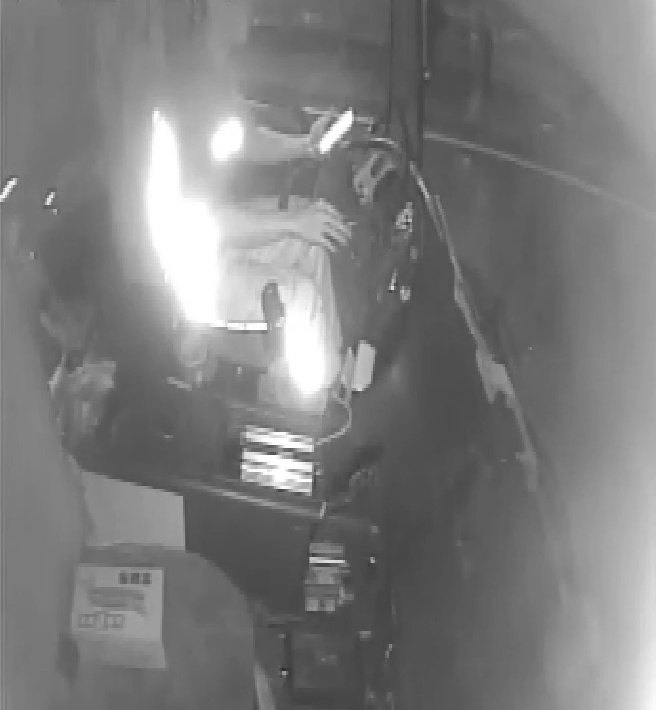cellphone: (310, 105, 360, 158)
